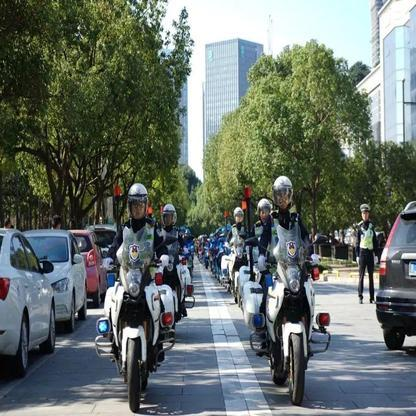target: (242, 174, 337, 407), (93, 182, 181, 411)
